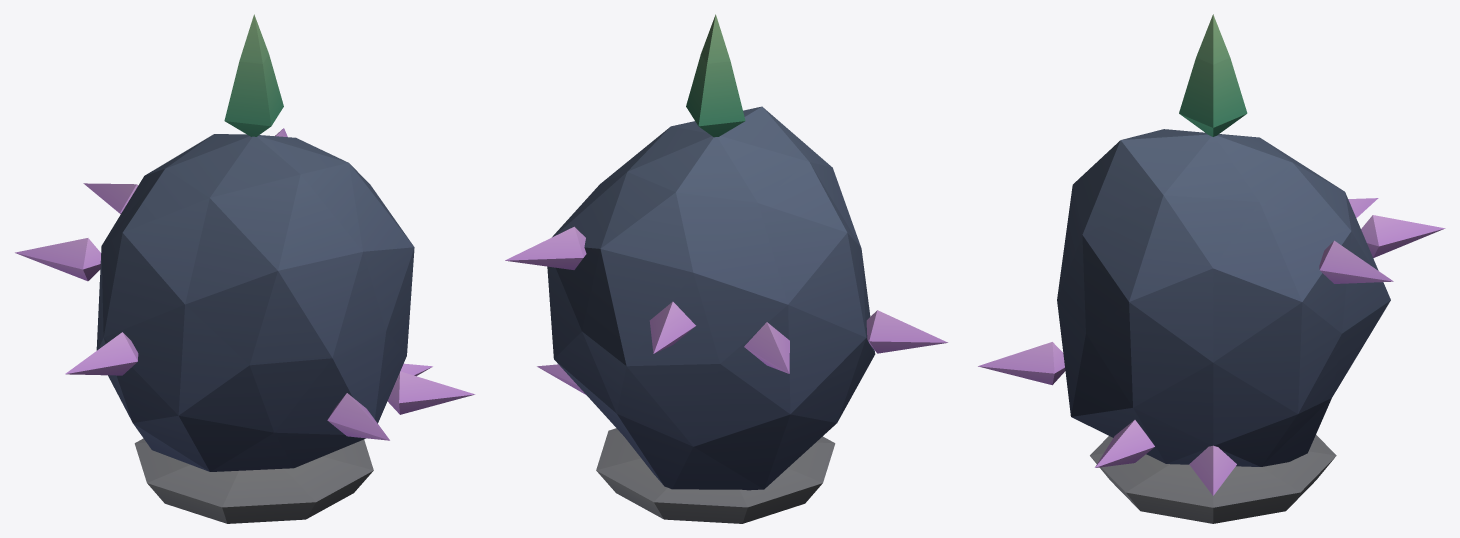
Rendered from item_void_seed.glb.
The picture shows the model from 3 angles, left to right: view 1: azimuth 30°, elevation 25°; view 2: azimuth 150°, elevation 25°; view 3: azimuth 270°, elevation 25°; orthographic projection.
Visible parts, largest first — view 1: item_void_seed; view 2: item_void_seed; view 3: item_void_seed.
Boxes of the visible parts, left/top/right/bottom form: item_void_seed: left=15, top=14, right=475, bottom=523; item_void_seed: left=505, top=14, right=947, bottom=523; item_void_seed: left=978, top=14, right=1445, bottom=523.
Bounding box in the file's own units: 1.31 × 1.5 × 1.37.
1 material, 1 textured.
